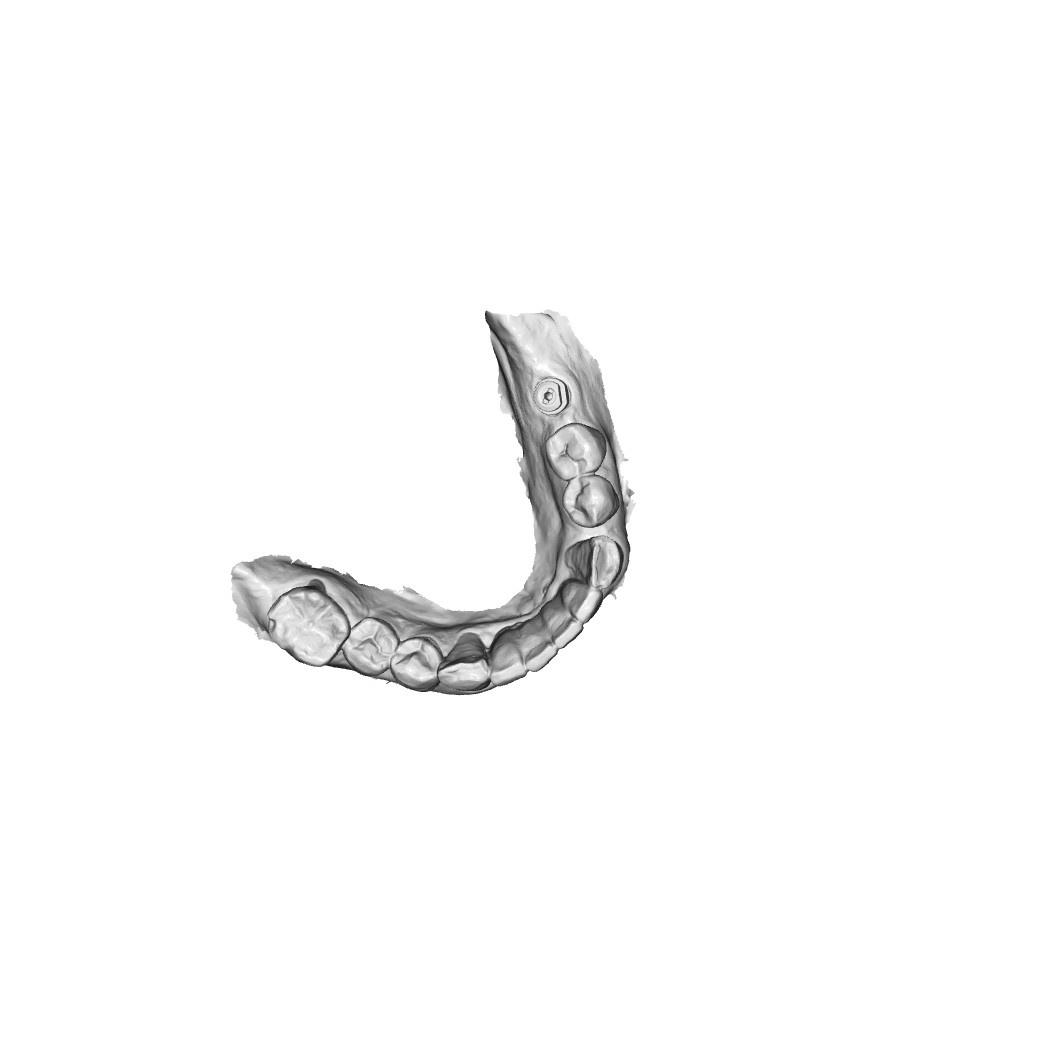canine: (565, 533, 622, 591), (437, 637, 492, 695)
implant_minus: (532, 376, 572, 418)
incisor: (492, 631, 528, 685), (520, 621, 557, 673), (546, 601, 583, 647), (564, 579, 603, 620)
molar: (268, 583, 347, 668)
premolar: (342, 614, 397, 681), (547, 425, 604, 476), (563, 474, 619, 524), (391, 638, 442, 690)
